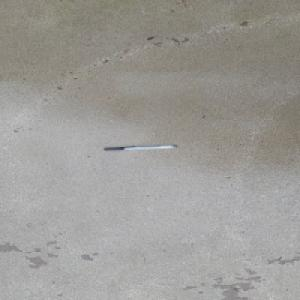Pen: (103, 144, 177, 151)
